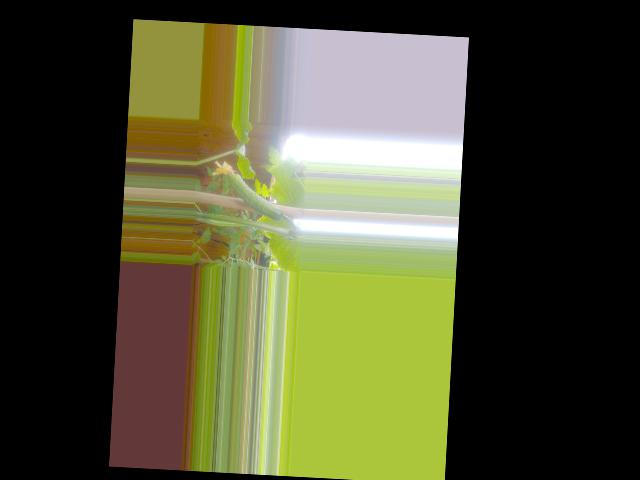cucumber: (209, 159, 285, 220)
